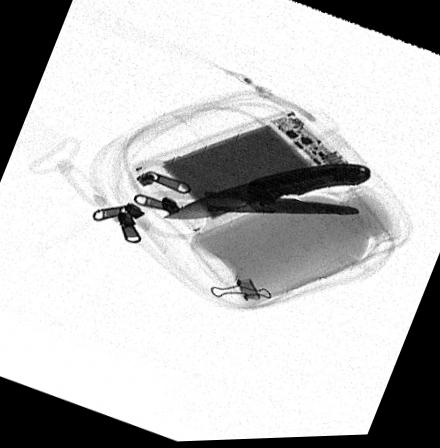Knife: (164, 165, 370, 220)
Powerbank: (134, 110, 354, 235)
Scissors: (117, 155, 367, 242)
